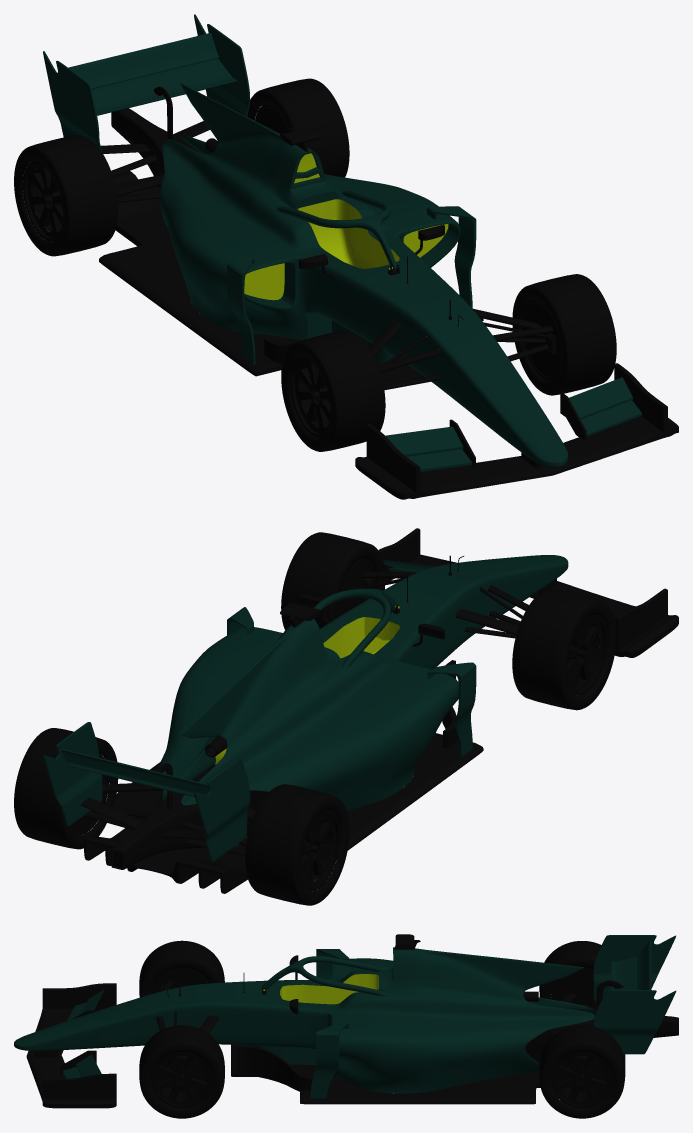
The model's file is Women_accessory_AstonMartin_px68_py15_pz-30_s0d3_5000.e7326ef5.glb.
3 renders of one model, top to bottom at view 1: azimuth 30°, elevation 25°; view 2: azimuth 150°, elevation 25°; view 3: azimuth 270°, elevation 25°, orthographic. The views are drawn at different scales.
Visible parts, largest first — view 1: _gltfNode_0, _gltfNode_3, _gltfNode_13, _gltfNode_16, _gltfNode_4, _gltfNode_2, _gltfNode_10, _gltfNode_1, _gltfNode_14, _gltfNode_17; view 2: _gltfNode_0, _gltfNode_3, _gltfNode_16, _gltfNode_13, _gltfNode_4, _gltfNode_17, _gltfNode_14, _gltfNode_2, _gltfNode_10; view 3: _gltfNode_0, _gltfNode_3, _gltfNode_13, _gltfNode_4, _gltfNode_16, _gltfNode_10, _gltfNode_14, _gltfNode_17, _gltfNode_2, _gltfNode_9.
Part boxes in pixels (x1,y1,x2,y2): _gltfNode_0: (43, 14, 641, 471); _gltfNode_3: (99, 86, 553, 468); _gltfNode_13: (281, 274, 616, 451); _gltfNode_16: (14, 78, 349, 256); _gltfNode_4: (355, 363, 678, 499); _gltfNode_2: (298, 199, 399, 268); _gltfNode_10: (47, 107, 561, 401); _gltfNode_1: (244, 153, 448, 300); _gltfNode_14: (290, 299, 561, 437); _gltfNode_17: (23, 104, 284, 241); _gltfNode_0: (43, 555, 616, 861); _gltfNode_3: (81, 555, 556, 893); _gltfNode_16: (14, 728, 349, 905); _gltfNode_13: (281, 532, 616, 710); _gltfNode_4: (378, 528, 678, 657); _gltfNode_17: (71, 754, 340, 890); _gltfNode_14: (336, 558, 607, 695); _gltfNode_2: (323, 617, 399, 658); _gltfNode_10: (72, 561, 583, 855); _gltfNode_0: (14, 935, 676, 1098); _gltfNode_3: (35, 934, 678, 1104); _gltfNode_13: (139, 940, 224, 1118); _gltfNode_4: (26, 983, 116, 1108); _gltfNode_16: (539, 941, 625, 1118); _gltfNode_10: (153, 969, 607, 1089); _gltfNode_14: (151, 967, 213, 1108); _gltfNode_17: (551, 967, 613, 1108); _gltfNode_2: (280, 974, 378, 1004); _gltfNode_9: (164, 1058, 600, 1091).
Size of the model in its own units: 170 by 99.24 by 463.
